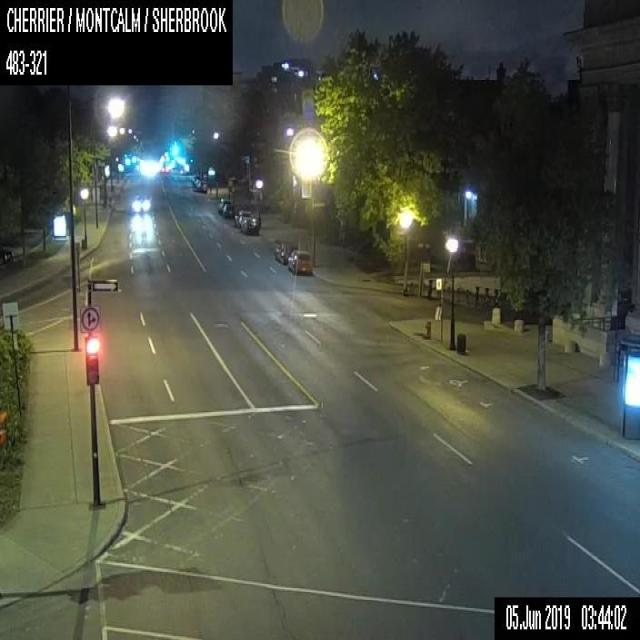vehicle: (287, 250, 311, 274), (274, 242, 295, 264), (131, 193, 150, 212), (233, 208, 251, 226), (240, 217, 258, 233), (218, 197, 232, 212), (0, 246, 11, 263), (221, 202, 234, 216), (194, 179, 206, 191)
